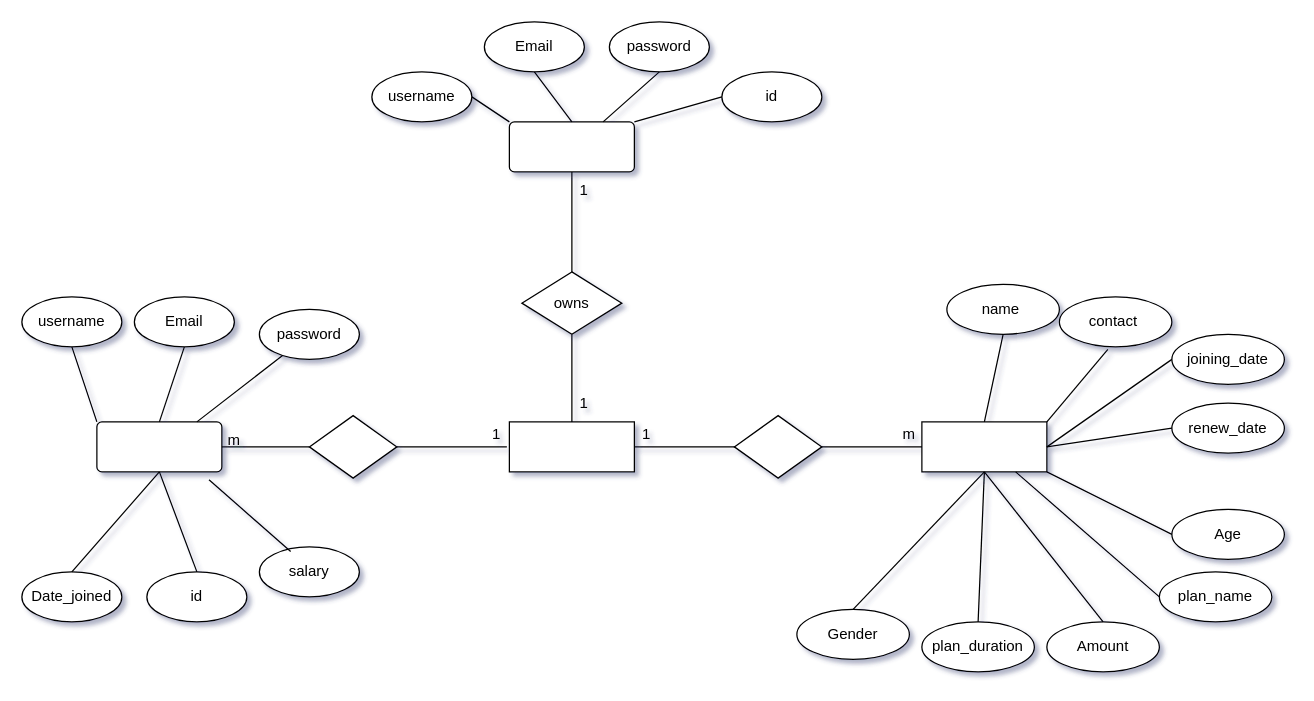
Some shapes in this 1314 by 701 pixel diagram are drawn without their labels. The shapes that lost their labels are listed below. From the top down, each one's box as (x1, y1, x2, y2) in pixels, then its label:
(508, 121, 634, 172): Admin
(96, 421, 222, 472): trainer
(308, 414, 397, 478): works at
(508, 421, 634, 472): gym
(733, 414, 822, 478): workout at
(921, 421, 1047, 472): member
